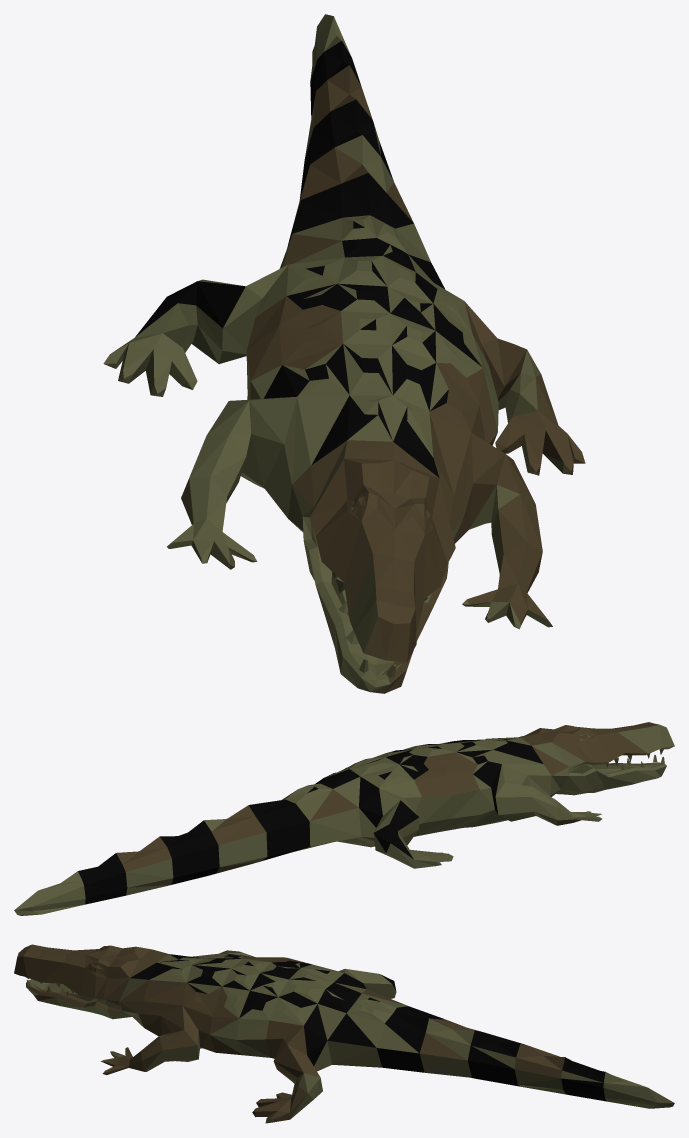
The model's file is PhilippineCrocodile.fbx.
3 views of the same model, one above another, from view 1: azimuth 30°, elevation 25°; view 2: azimuth 150°, elevation 25°; view 3: azimuth 270°, elevation 25° (orthographic). The views are drawn at different scales.
Parts seen in each view (by area): view 1: imagetostl_mesh; view 2: imagetostl_mesh; view 3: imagetostl_mesh.
Part boxes in pixels (<box>): imagetostl_mesh: <box>103,14,585,693</box>; imagetostl_mesh: <box>14,722,674,915</box>; imagetostl_mesh: <box>14,944,674,1123</box>.
Bounding box in the file's own units: 947 × 294 × 1689.
